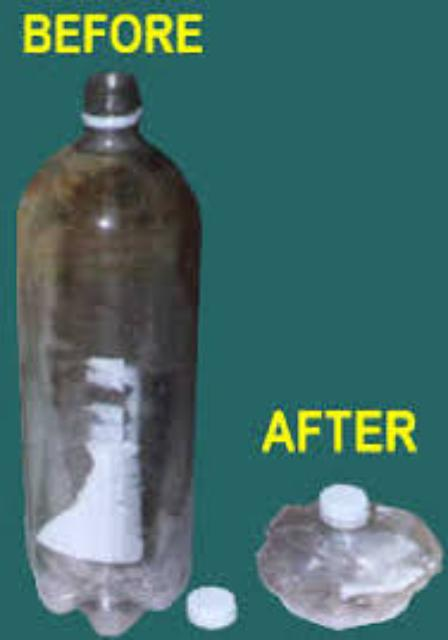plastic: (14, 69, 193, 630), (256, 482, 439, 626)
